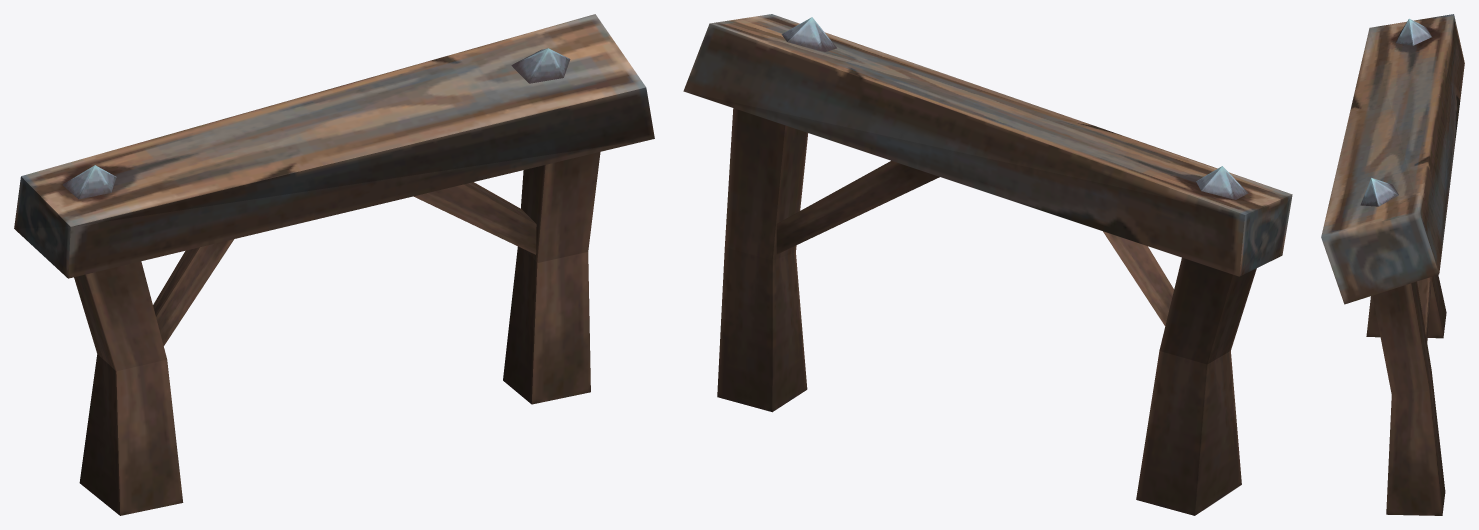
The model's file is mine_railing_small_03.fbx.
The picture shows the model from 3 angles, left to right: view 1: azimuth 30°, elevation 25°; view 2: azimuth 150°, elevation 25°; view 3: azimuth 270°, elevation 25°; orthographic projection. The views are drawn at different scales.
Parts seen in each view (by area): view 1: obj0.155; view 2: obj0.155; view 3: obj0.155.
Boxes of the visible parts, x1,y1,x2,y2 form: obj0.155: (14,14,654,515); obj0.155: (683,14,1292,515); obj0.155: (1321,14,1464,515).
Bounding box in the file's own units: 2.57 × 1.56 × 0.6447.
